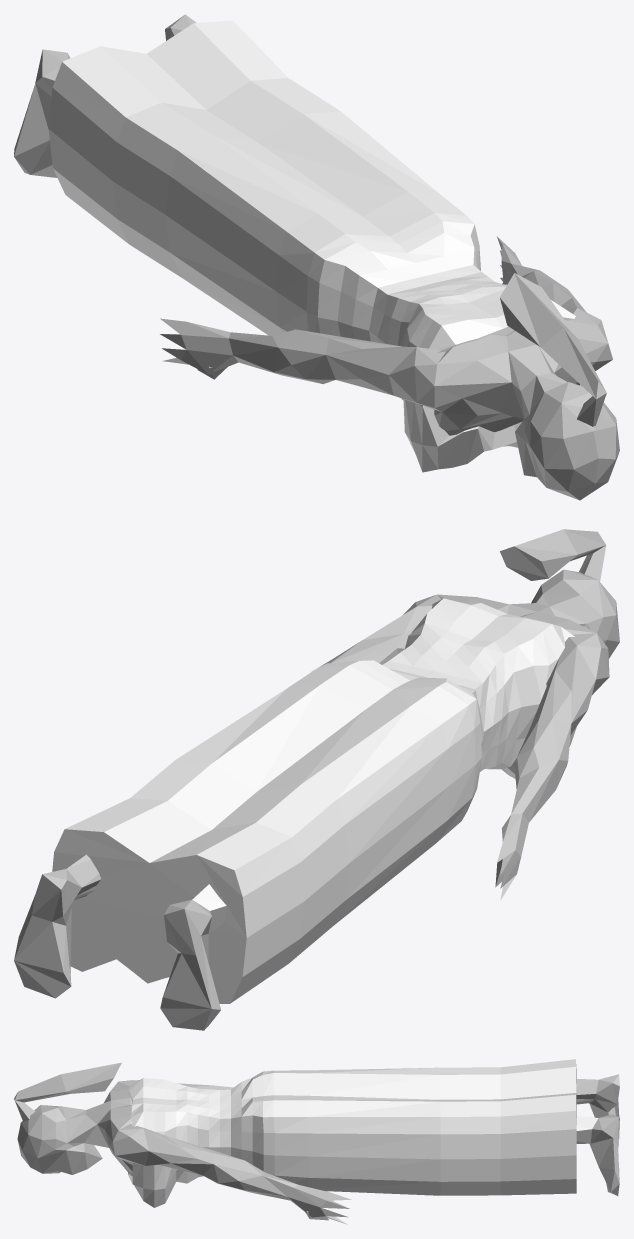
The model's file is dress_wtf.obj.
3 views of the same model, one above another, from view 1: azimuth 30°, elevation 25°; view 2: azimuth 150°, elevation 25°; view 3: azimuth 270°, elevation 25° (orthographic). The views are drawn at different scales.
Parts seen in each view (by area): view 1: group2, group3, group5, group4; view 2: group2, group3, group5, group4; view 3: group2, group3, group5, group4, group1.
Boxes of the visible parts, x1=… form: group2: x1=48, y1=20, x2=581, y2=472; group3: x1=14, y1=14, x2=612, y2=500; group5: x1=500, y1=273, x2=619, y2=491; group4: x1=463, y1=330, x2=535, y2=360; group2: x1=52, y1=598, x2=576, y2=1003; group3: x1=14, y1=579, x2=619, y2=1030; group5: x1=500, y1=529, x2=619, y2=641; group4: x1=465, y1=597, x2=569, y2=624; group2: x1=128, y1=1059, x2=576, y2=1207; group3: x1=30, y1=1074, x2=619, y2=1224; group5: x1=14, y1=1062, x2=121, y2=1166; group4: x1=110, y1=1089, x2=132, y2=1119; group1: x1=131, y1=1116, x2=598, y2=1130.
Size of the model in its own units: 265 by 151 by 660.
